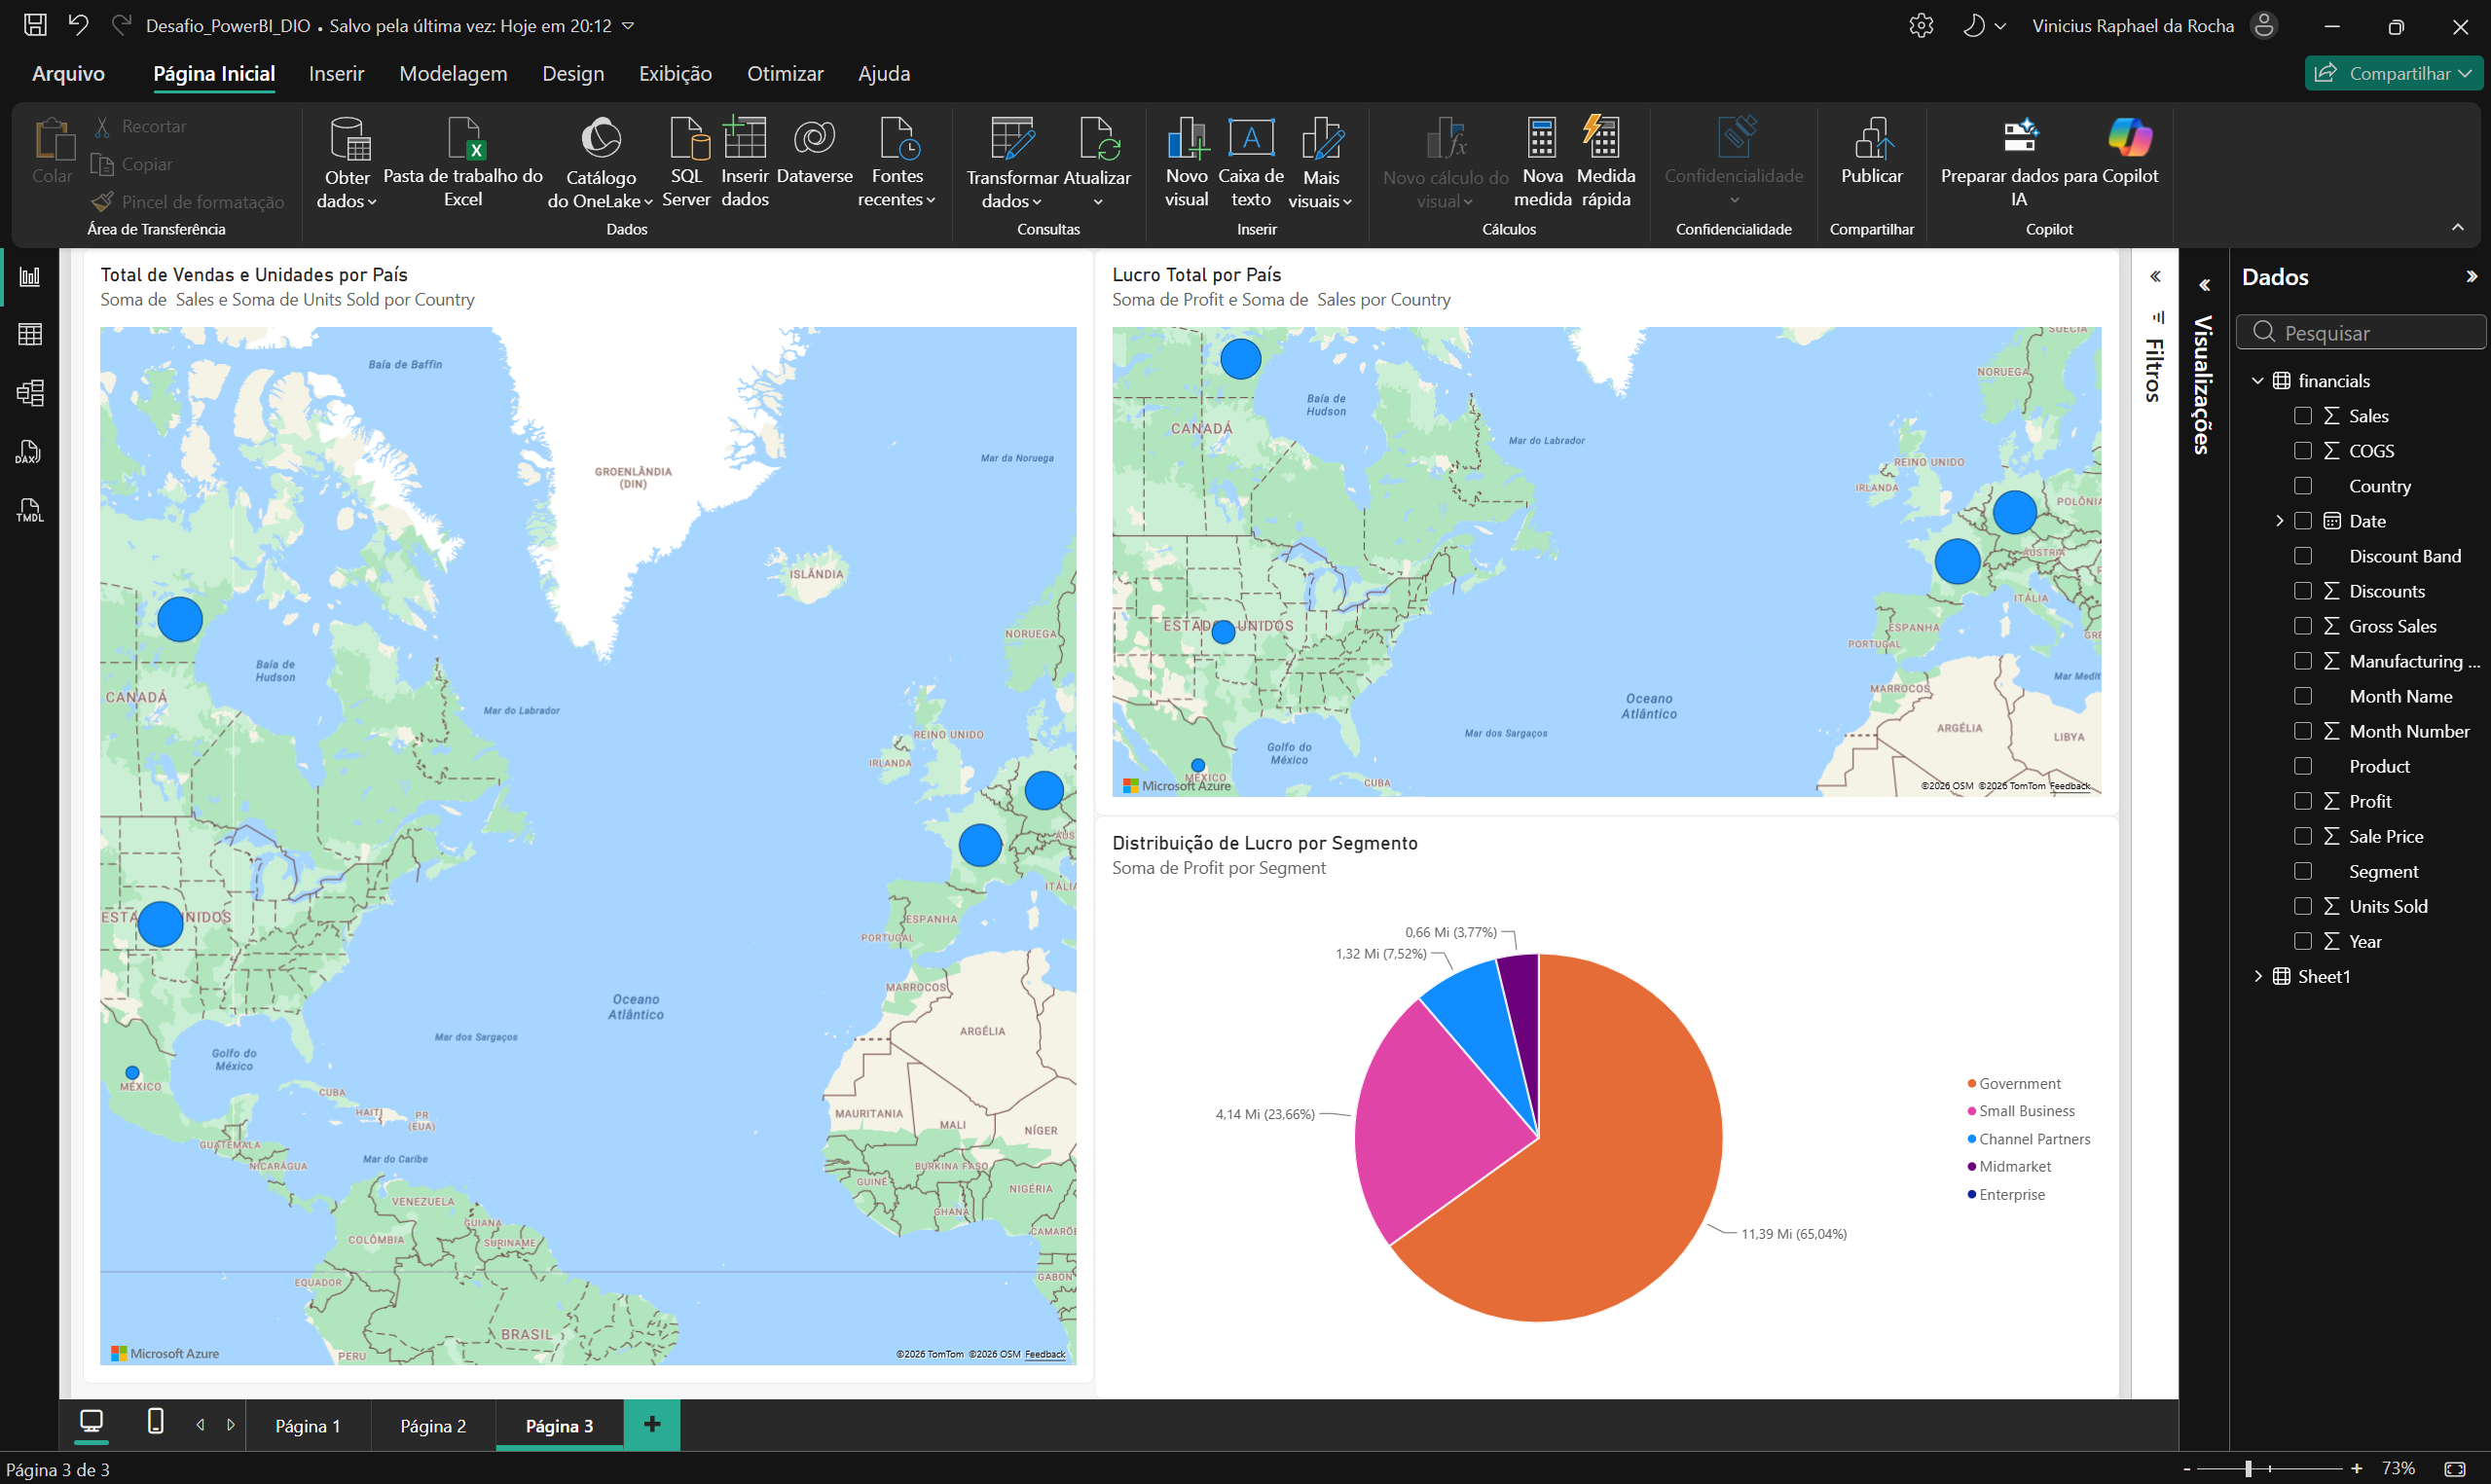

Layout of this report page (visuals, bound fields, positions):
{"tool":"powerbi","page":{"name":"Página 3","canvas":[1920,1080],"ordinal":2},"visuals":[{"type":"azureMap","title":"Total de Vendas e Unidades por País","fields":{"Category":["financials.Country"],"Size":["Sum(financials. Sales)"]},"box":[10.6,0,948.9,1065.1],"z":0},{"type":"azureMap","title":"Lucro Total por País","fields":{"Category":["financials.Country"],"Size":["Sum(financials.Profit)"]},"box":[959.5,0,961,532.6],"z":1000},{"type":"pieChart","title":"Distribuição de Lucro por Segmento","fields":{"Category":["financials.Segment"],"Y":["Sum(financials.Profit)"]},"box":[959.5,532.6,961,547.6],"z":2000}]}

Visuals, with their boxes on the page's 1920x1080 design canvas (x1, y1, x2, y2). These are canvas units, not pixel positions in the 2491x1484 screenshot, which may show the page scaled, cropped or inside an application window:
"Total de Vendas e Unidades por País" azureMap: region(11, 0, 960, 1065)
"Lucro Total por País" azureMap: region(960, 0, 1920, 533)
"Distribuição de Lucro por Segmento" pieChart: region(960, 533, 1920, 1080)
